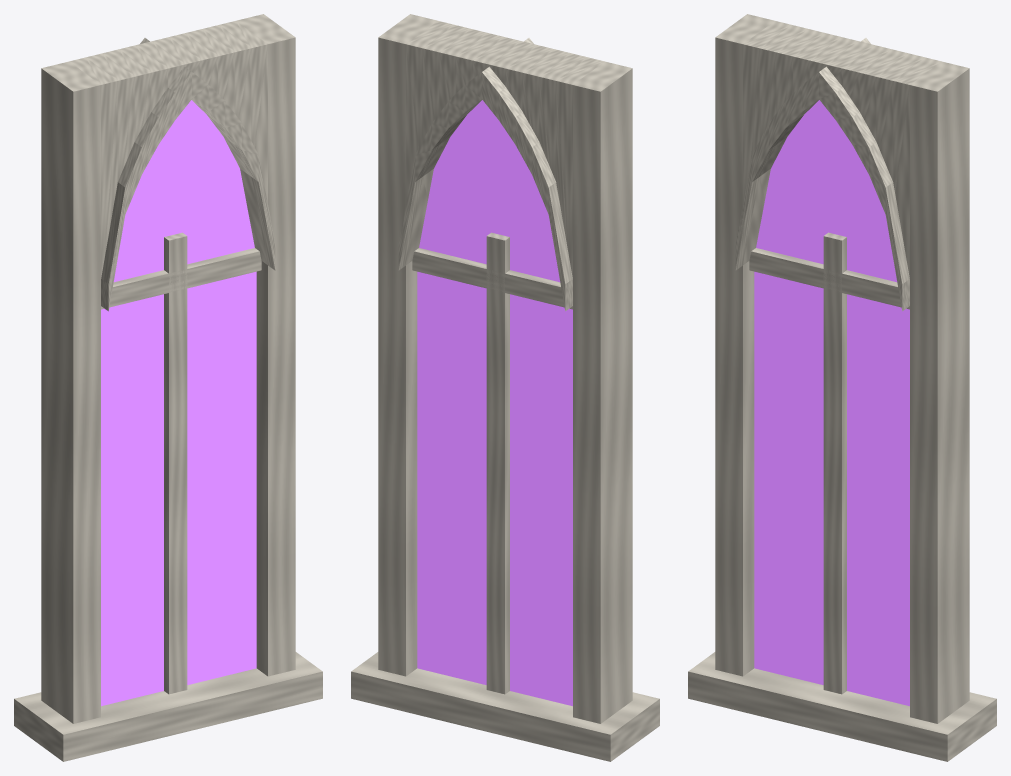
Rendered from vampire-crypt-and-gothic-cathedral-lancet-window-b0223f08__22945.glb.
3 renders of one model, left to right at view 1: azimuth 30°, elevation 25°; view 2: azimuth 150°, elevation 25°; view 3: azimuth 330°, elevation 25°, orthographic.
Parts seen in each view (by area): view 1: lancet-window; view 2: lancet-window; view 3: lancet-window.
Boxes of the visible parts, box(x1,y1,x2,y2) form: lancet-window: box(14, 14, 322, 761); lancet-window: box(351, 14, 659, 761); lancet-window: box(688, 14, 996, 761).
Size of the model in its own units: 1.4 by 3.4 by 0.4599.
2 materials, 1 textured.
